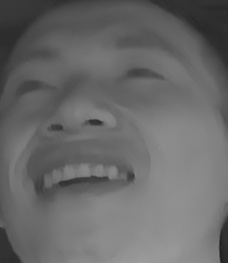eye: (11, 75, 64, 100), (120, 62, 170, 86)
mouth: (21, 147, 140, 203)
